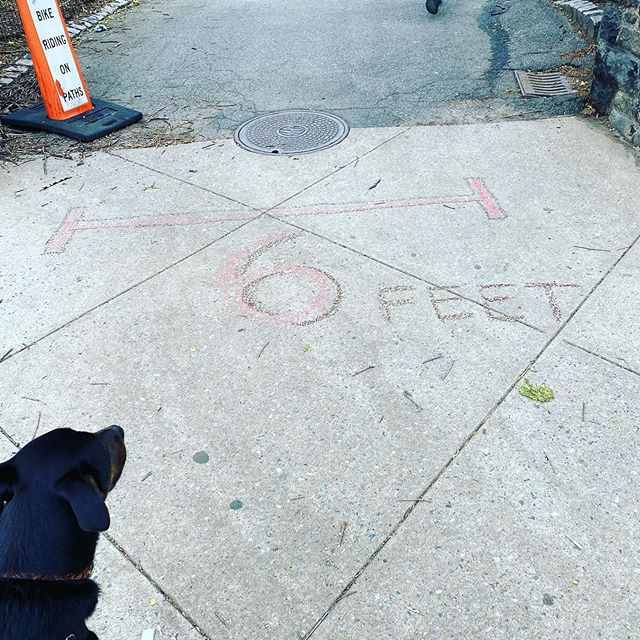animal: (1, 407, 154, 640)
manhole cover: (212, 84, 358, 172)
street: (48, 1, 631, 632)
